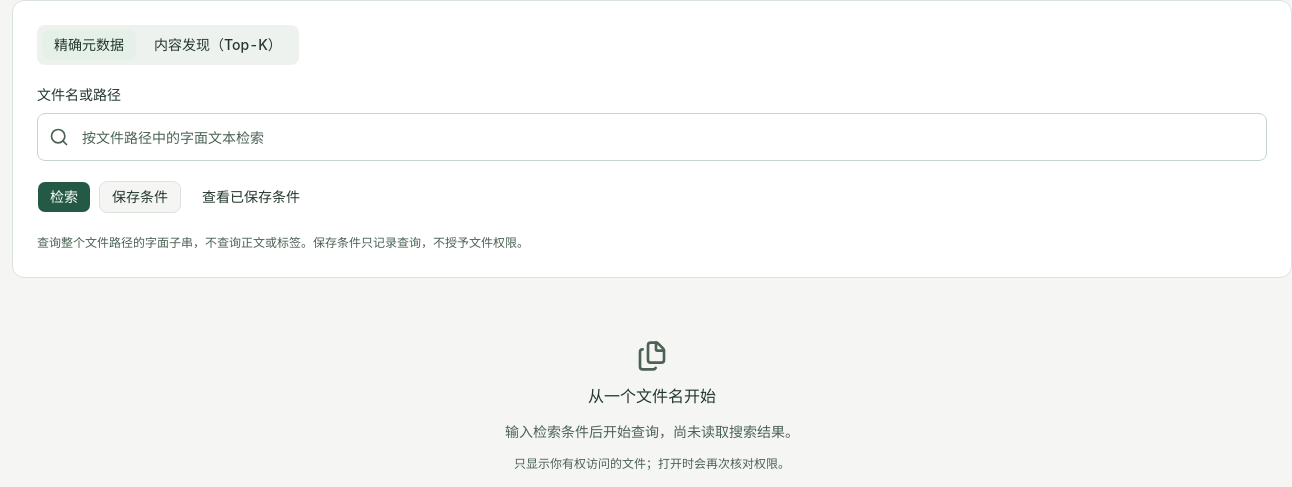
Test: invalidates a pending query when text changes
This screenshot has width=1292, height=487.
Type "original" into the search field named "检索条件".
click(652, 137); type("original")  # box [37,113,1267,161]
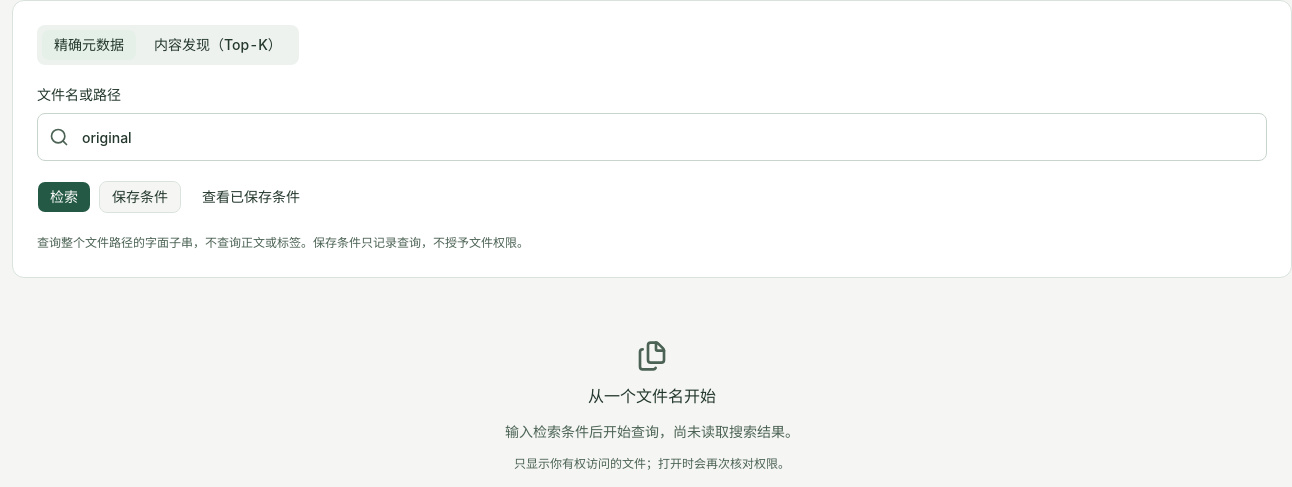
Click the button "检索".
click(64, 197)  # box [37,181,91,213]
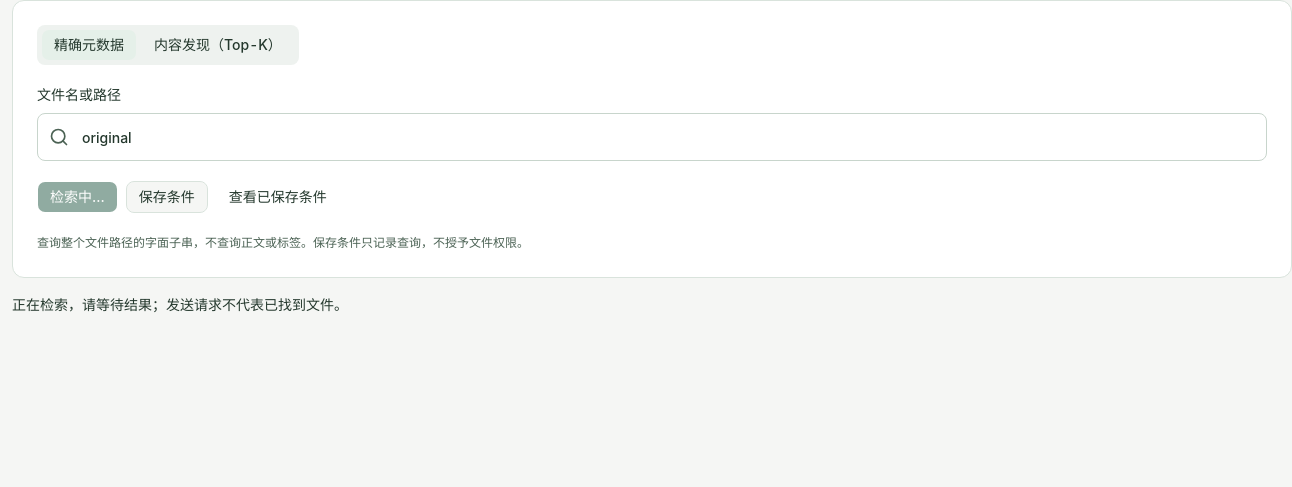
Replace the text in the search field named "检索条件" with "changed" at (652, 137), box [37,113,1267,161]
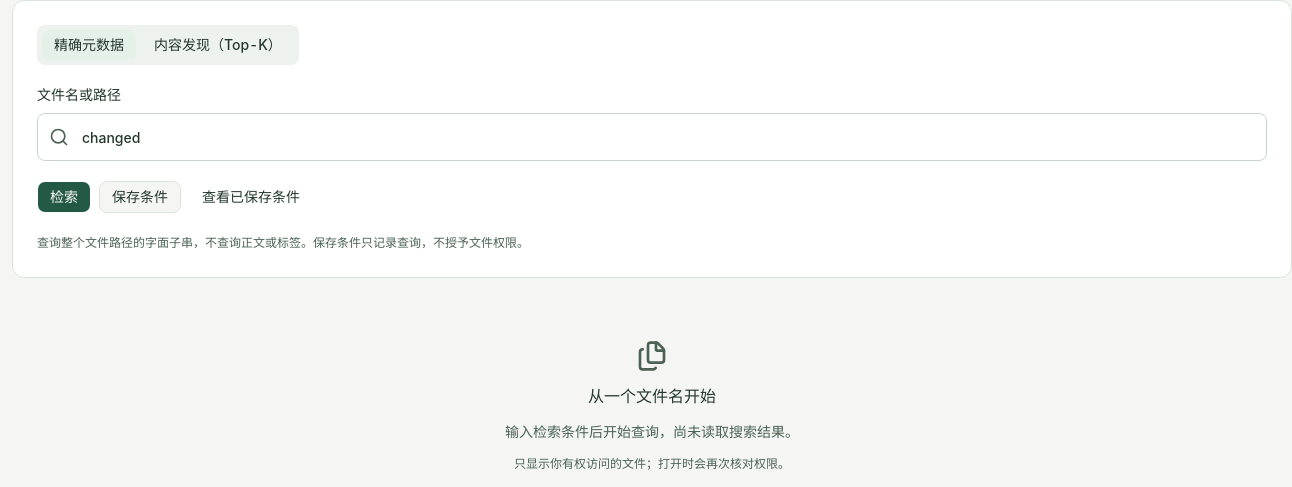
Check: the message shows "尚未读取搜索结果", box [505,423,799,440]
